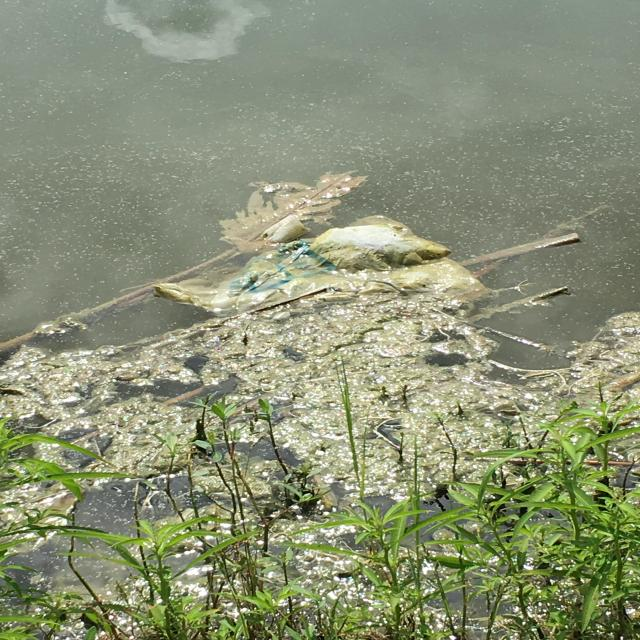litter: (152, 216, 488, 317)
